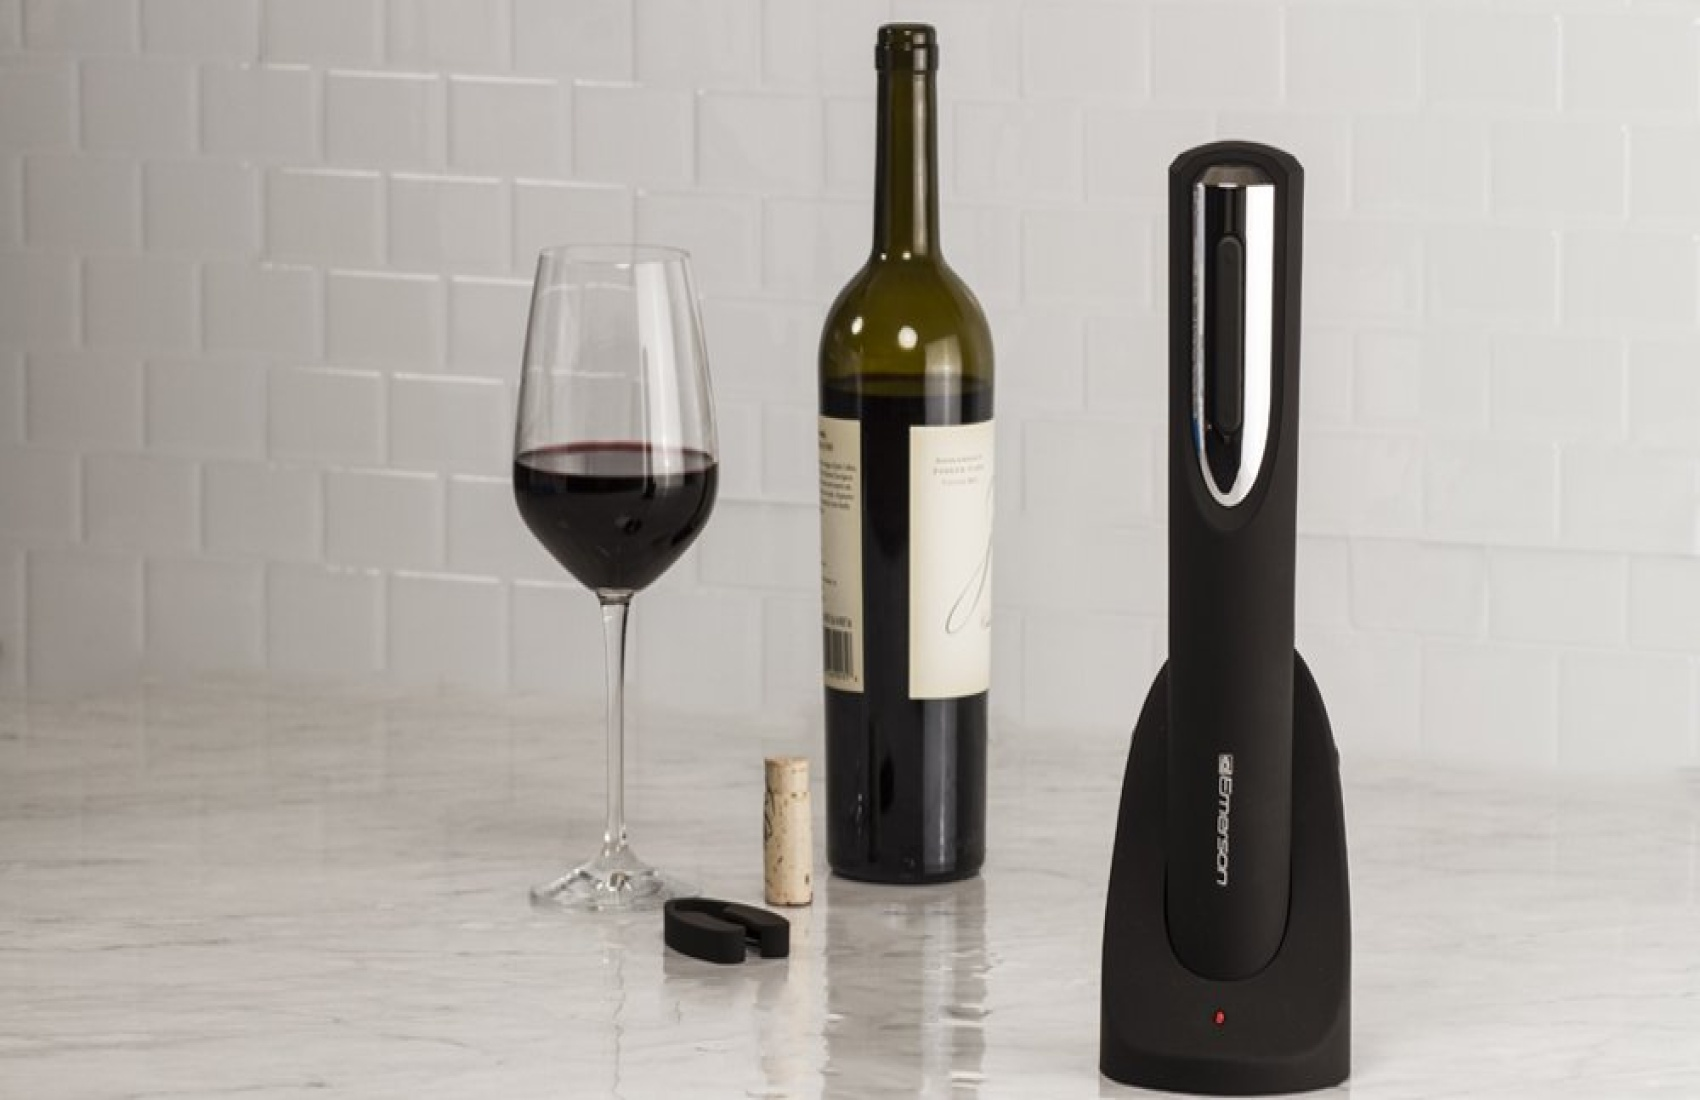wine: (818, 24, 988, 873)
